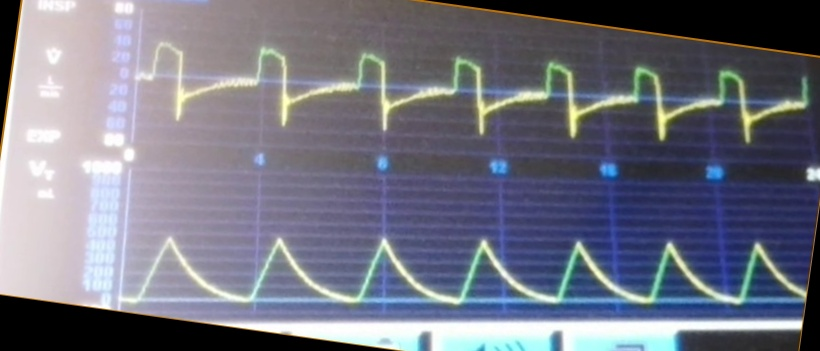Accumulation Flow: (142, 37, 780, 150)
Volume: (129, 214, 800, 313)
